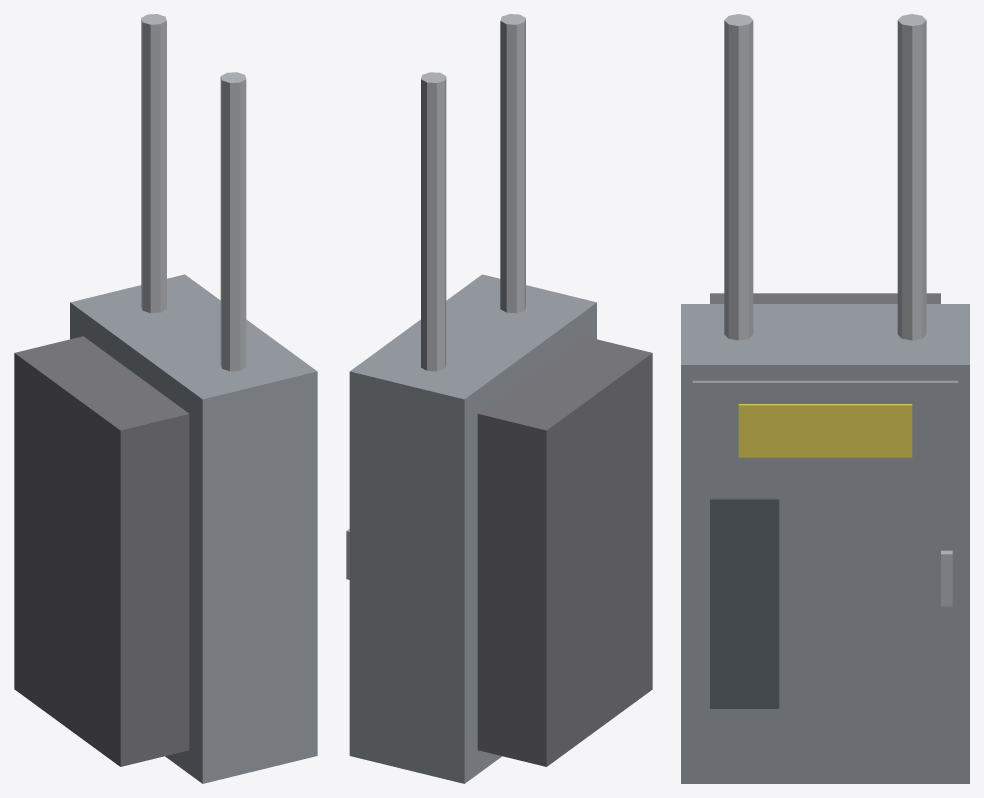
Rendered from BreakerBox.fbx.
3 renders of one model, left to right at view 1: azimuth 30°, elevation 25°; view 2: azimuth 150°, elevation 25°; view 3: azimuth 270°, elevation 25°, orthographic. The views are drawn at different scales.
Parts seen in each view (by area): view 1: BreakerBox; view 2: BreakerBox; view 3: BreakerBox.
Part boxes in pixels (x1=…): BreakerBox: x1=14, y1=14, x2=317, y2=783; BreakerBox: x1=346, y1=14, x2=652, y2=783; BreakerBox: x1=681, y1=14, x2=969, y2=783.
Size of the model in its own units: 0.425 by 1.4 by 0.5.
